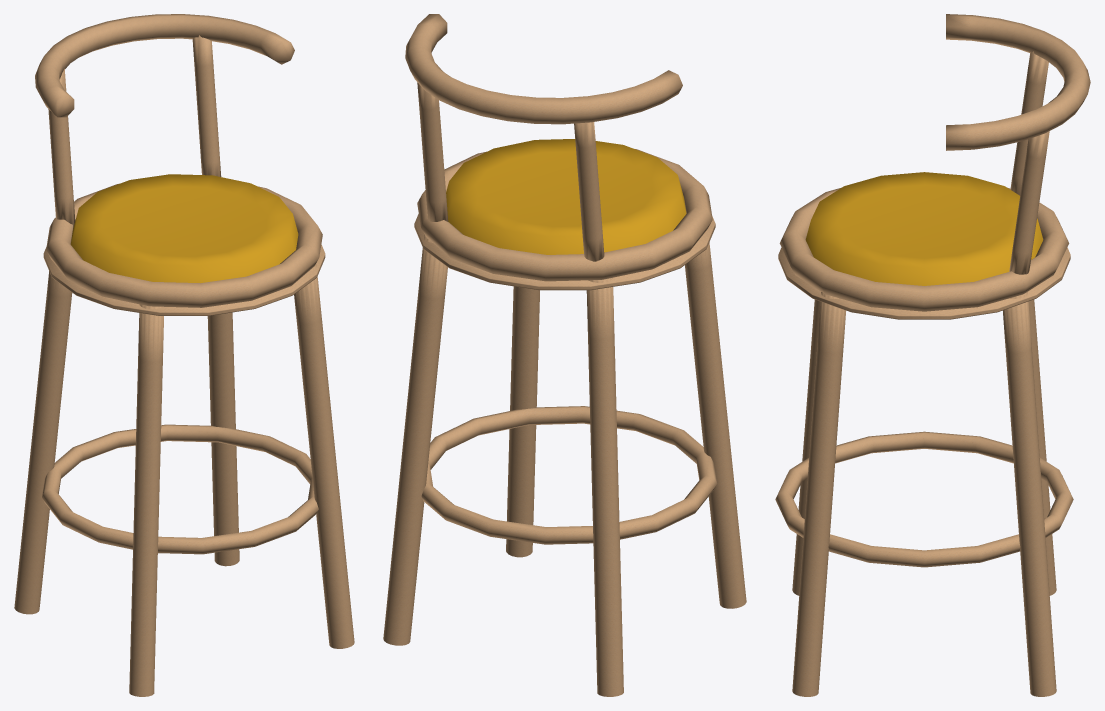
The model's file is HighChair.FBX.
The picture shows the model from 3 angles, left to right: view 1: azimuth 30°, elevation 25°; view 2: azimuth 150°, elevation 25°; view 3: azimuth 270°, elevation 25°; orthographic projection. The views are drawn at different scales.
Visible parts, largest first — view 1: HighChair; view 2: HighChair; view 3: HighChair.
Boxes of the visible parts, x1,y1,x2,y2 form: HighChair: (14, 14, 354, 696); HighChair: (383, 14, 746, 696); HighChair: (775, 14, 1090, 696).
Bounding box in the file's own units: 21.42 × 45.29 × 22.64.
